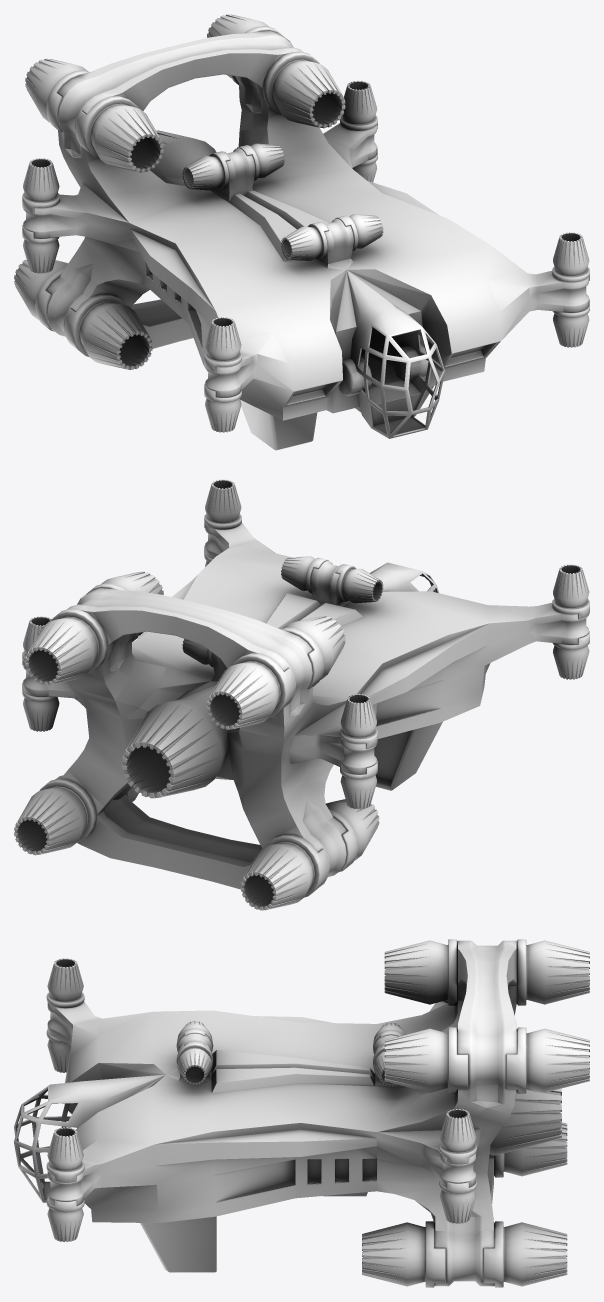
File: spacecraft.dae
The picture shows the model from 3 angles, top to bottom: view 1: azimuth 30°, elevation 25°; view 2: azimuth 150°, elevation 25°; view 3: azimuth 270°, elevation 25°; orthographic projection.
Parts seen in each view (by area): view 1: Spacecraft; view 2: Spacecraft; view 3: Spacecraft.
Boxes of the visible parts, x1,y1,x2,y2 form: Spacecraft: (14,14,589,450); Spacecraft: (14,479,589,910); Spacecraft: (14,939,589,1287).
Bounding box in the file's own units: 27.03 × 17.93 × 35.55.
